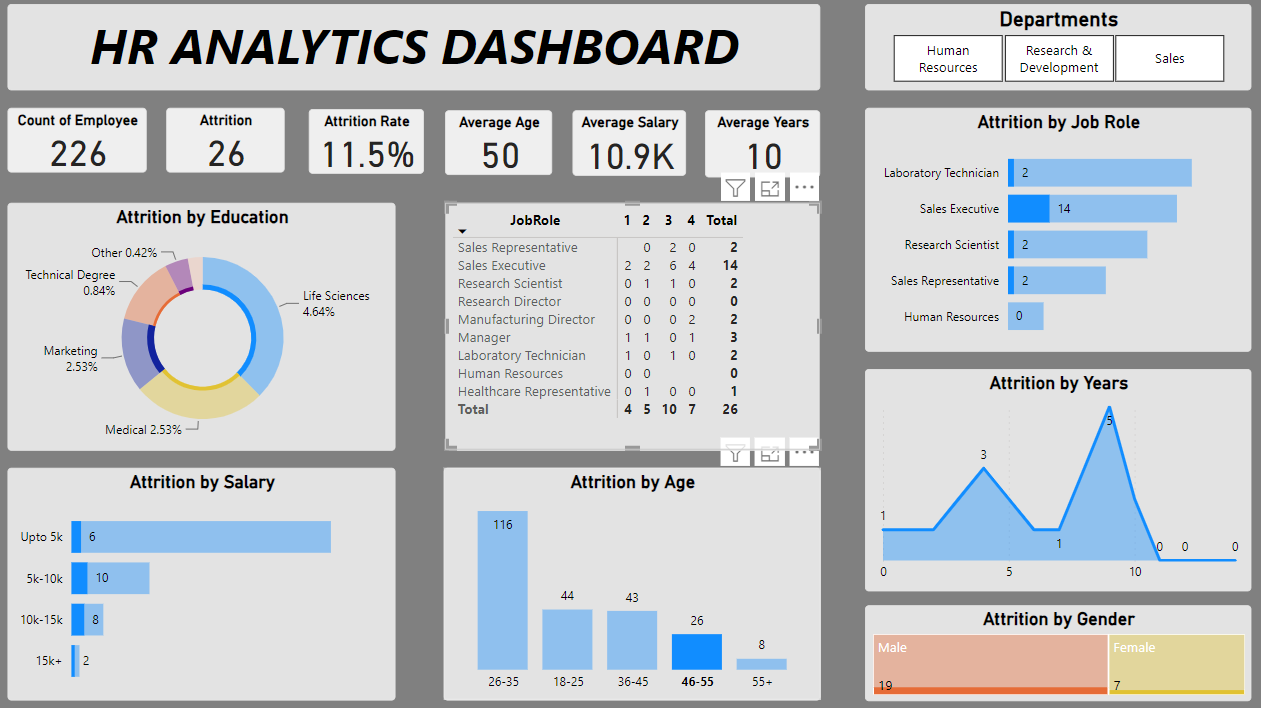

Layout of this report page (visuals, bound fields, positions):
{"tool":"powerbi","page":{"name":"Page 1","canvas":[1280,720],"ordinal":0},"visuals":[{"type":"card","title":"Count of Employee","fields":{"Values":["CountNonNull(HR_Analytics.EmpID)"]},"box":[17,113.8,139.4,64.9],"z":0},{"type":"card","title":"Attrition","fields":{"Values":["Sum(HR_Analytics.AttritionCount)"]},"box":[176.6,113.8,118.1,64.9],"z":1000},{"type":"card","title":"Attrition Rate","fields":{"Values":["HR_Analytics.AttritionRate"]},"box":[319.1,114.9,114.9,64.9],"z":2000},{"type":"card","title":"Average Age ","fields":{"Values":["Avg(HR_Analytics.Age)"]},"box":[455.3,116,107.4,64.9],"z":3000},{"type":"card","title":"Average Salary","fields":{"Values":["Avg(HR_Analytics.MonthlyIncome)"]},"box":[583,116,113.8,66],"z":4000},{"type":"card","title":"Average Years ","fields":{"Values":["Avg(HR_Analytics.YearsAtCompany)"]},"box":[714.9,116,114.9,67],"z":5000},{"type":"donutChart","title":"Attrition by Education","fields":{"Category":["HR_Analytics.EducationField"],"Y":["Sum(HR_Analytics.AttritionCount)"]},"box":[17,208.5,388.3,247.9],"z":6000},{"type":"columnChart","title":"Attrition by Age","fields":{"Category":["HR_Analytics.AgeGroup"],"Y":["Sum(HR_Analytics.AttritionCount)"]},"box":[453.2,473.4,376.6,233],"z":7000},{"type":"pivotTable","fields":{"Rows":["HR_Analytics.JobRole"],"Columns":["HR_Analytics.JobSatisfaction"],"Values":["Sum(HR_Analytics.AttritionCount)"]},"box":[455.3,208.5,374.5,247.9],"z":8000},{"type":"barChart","title":"Attrition by Salary","fields":{"Category":["HR_Analytics.SalarySlab"],"Y":["Sum(HR_Analytics.AttritionCount)"]},"box":[17,473.4,388.3,233],"z":9000},{"type":"barChart","title":"Attrition by Job Role","fields":{"Category":["HR_Analytics.JobRole"],"Y":["Sum(HR_Analytics.AttritionCount)"]},"box":[875.5,113.8,386.2,243.6],"z":10000},{"type":"areaChart","title":"Attrition by Years","fields":{"Category":["HR_Analytics.YearsAtCompany"],"Y":["Sum(HR_Analytics.AttritionCount)"]},"box":[875,375,386.2,222.5],"z":11000},{"type":"treemap","title":"Attrition by Gender","fields":{"Group":["HR_Analytics.Gender"],"Values":["Sum(HR_Analytics.AttritionCount)"]},"box":[875.5,610.6,386.2,95.7],"z":12000},{"type":"slicer","title":"Departments","fields":{"Values":["HR_Analytics.Department"]},"box":[875.5,9.6,386.2,86.2],"z":13000},{"type":"textbox","box":[17,9.6,812.8,86.2],"z":14000}]}

Visuals, with their boxes in screenshot pixels (x1, y1, x2, y2), scaled from the page's 1280x720 canvas onto the 1261x708 screenshot:
"Count of Employee" card: 17,112,154,176
"Attrition" card: 174,112,290,176
"Attrition Rate" card: 314,113,428,177
"Average Age " card: 449,114,554,178
"Average Salary" card: 574,114,686,179
"Average Years " card: 704,114,817,180
"Attrition by Education" donutChart: 17,205,399,449
"Attrition by Age" columnChart: 446,466,817,695
pivotTable - HR_Analytics.JobRole x HR_Analytics.JobSatisfaction: 449,205,817,449
"Attrition by Salary" barChart: 17,466,399,695
"Attrition by Job Role" barChart: 863,112,1243,351
"Attrition by Years" areaChart: 862,369,1242,588
"Attrition by Gender" treemap: 863,600,1243,695
"Departments" slicer: 863,9,1243,94
textbox: 17,9,817,94
